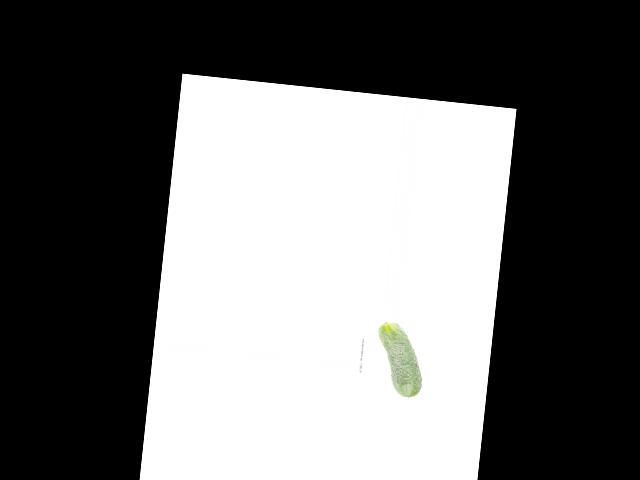cucumber: (371, 321, 427, 399)
